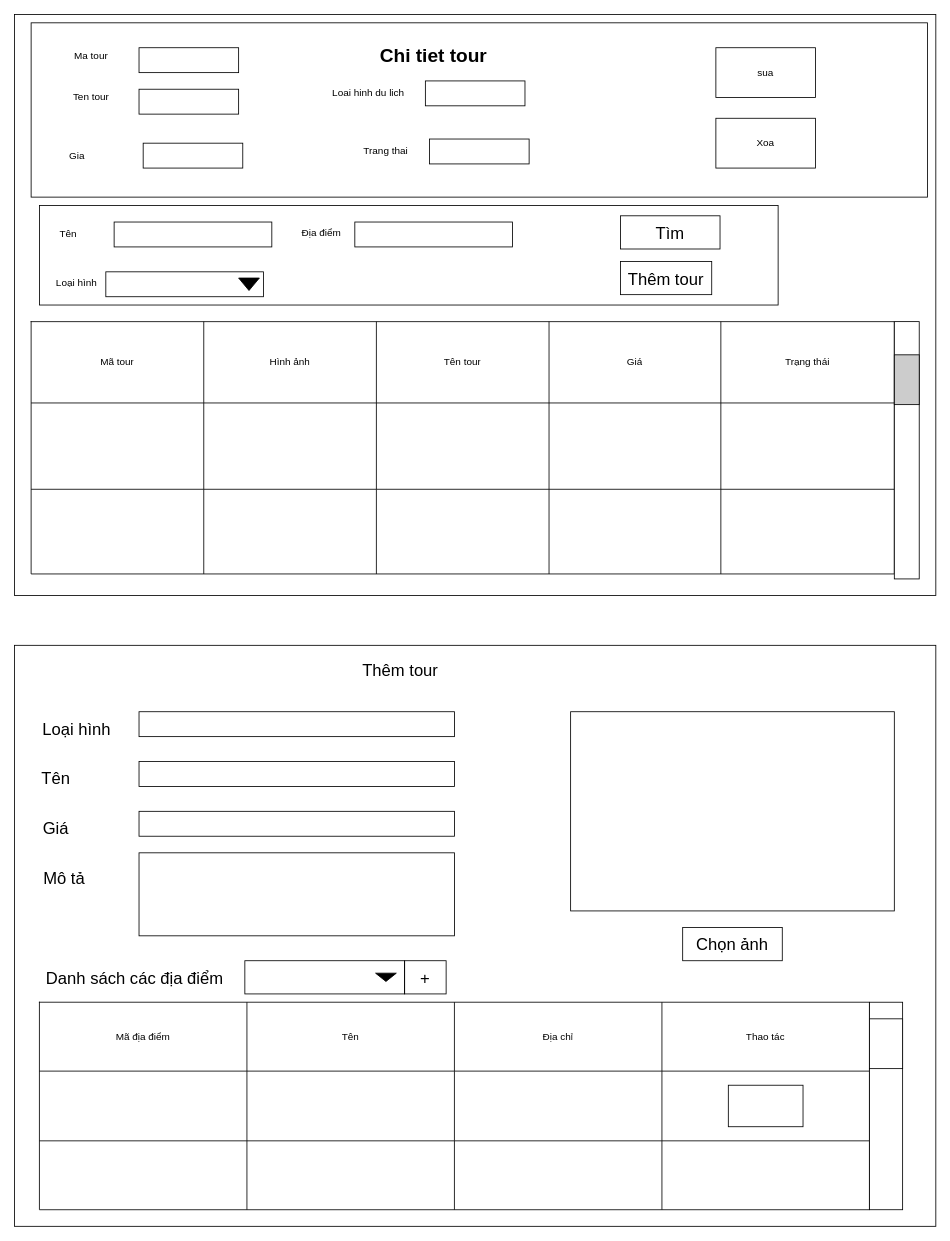
This 950x1241 diagram has some shape labels left out. The centre of each missing label's shape, as x and y in pixels:
"Địa điểm": pixel 324 977
Xóa: pixel 765 1105
